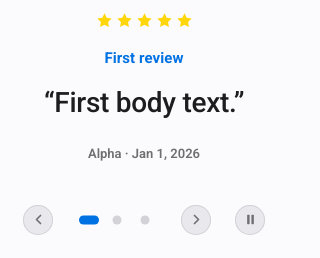
Test case: ReviewsCarousel › does not pause on hover
The image size is (320, 258).
Hover over the element named "App Store reviews".
mouse_move(144, 58)  # box x1=16 y1=12 x2=272 y2=242
Wait 6000 ms
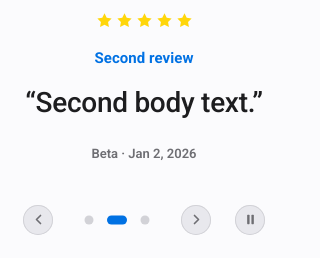
Check: the heading reads "Second review", box x1=94 y1=49 x2=194 y2=67
